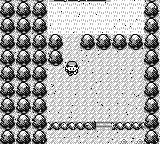main: (65, 61, 79, 76)
no-caminable: (81, 0, 159, 143), (0, 0, 64, 142)
salto: (48, 122, 95, 129), (114, 122, 143, 129)
